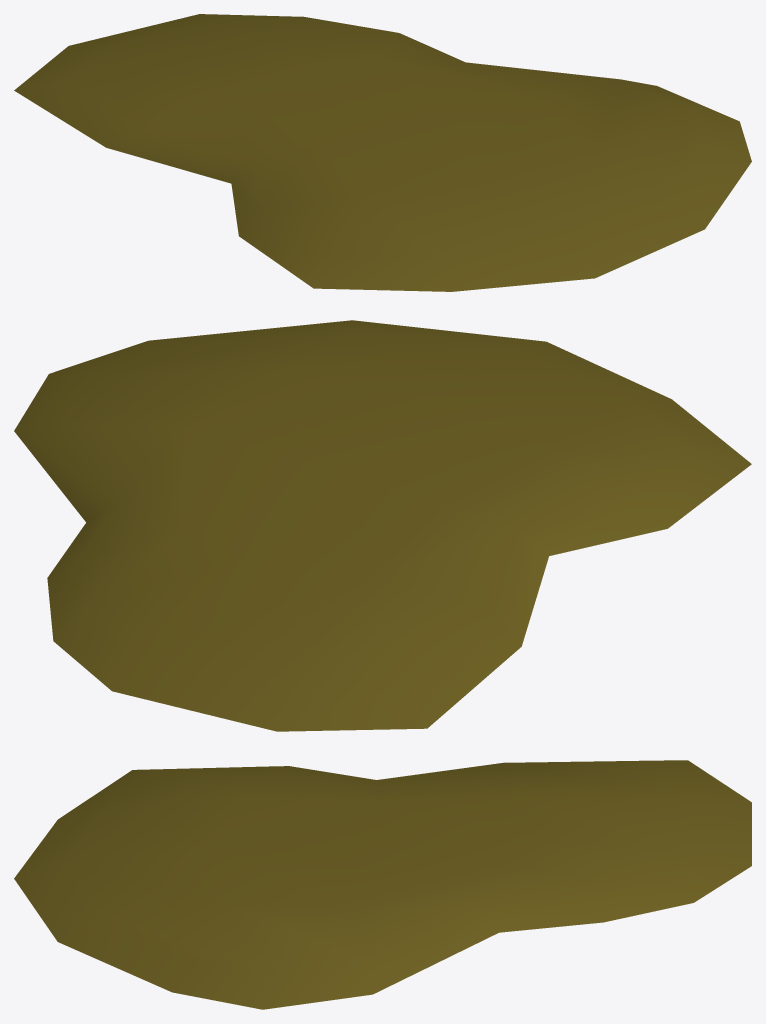
Rendered from Oleo de Cozinha.fbx.
The picture shows the model from 3 angles, top to bottom: view 1: azimuth 30°, elevation 25°; view 2: azimuth 150°, elevation 25°; view 3: azimuth 270°, elevation 25°; orthographic projection. The views are drawn at different scales.
Visible parts, largest first — view 1: Plane; view 2: Plane; view 3: Plane.
Boxes of the visible parts, x1,y1,x2,y2 form: Plane: (14, 14, 751, 291); Plane: (14, 320, 751, 731); Plane: (14, 760, 751, 1009).
Bounding box in the file's own units: 183 × 9.29 × 228.
